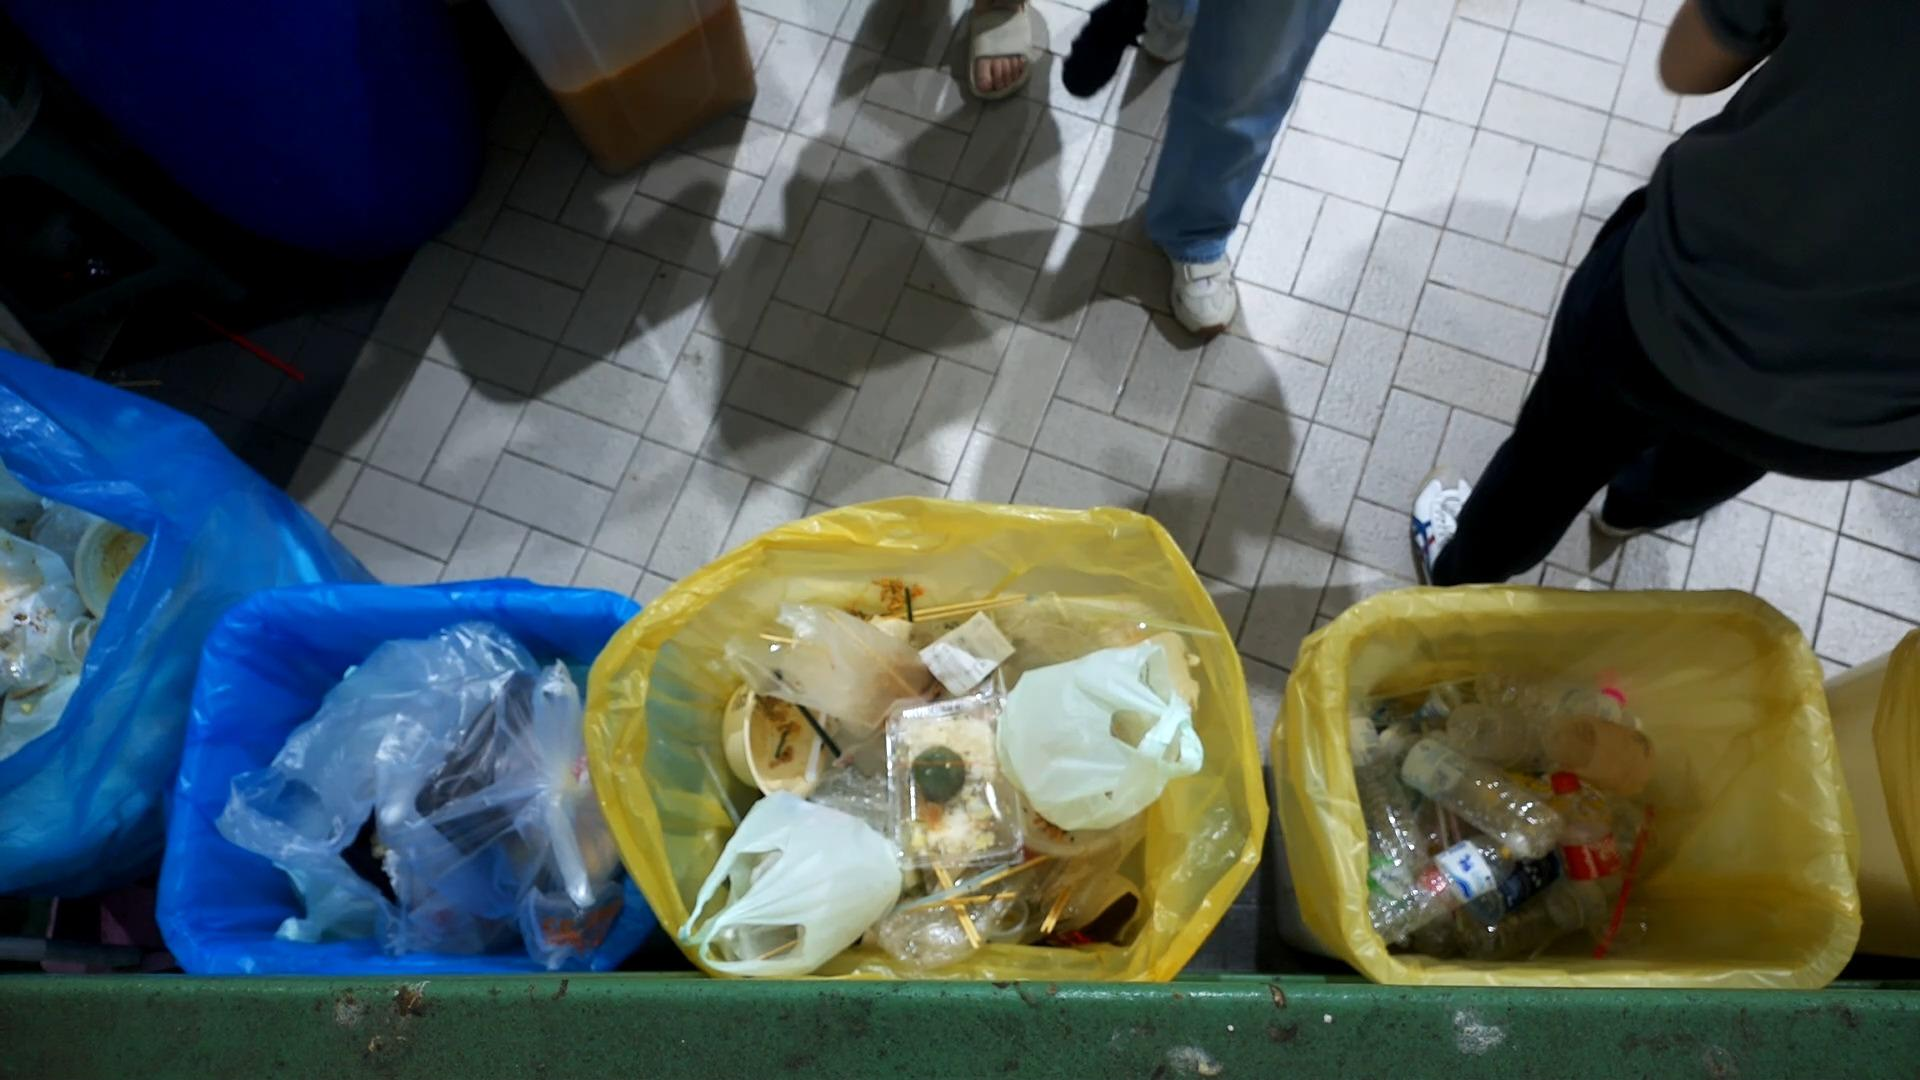dirty food container: (880, 687, 1029, 870)
filled plastic bag: (365, 673, 622, 935), (669, 790, 909, 984), (994, 642, 1205, 835), (721, 591, 951, 731), (882, 872, 1027, 972)
food container: (716, 674, 824, 798)
plastic bag: (212, 622, 522, 870), (501, 825, 632, 988)
plastic bottle: (1379, 725, 1573, 862), (1364, 837, 1536, 961), (1336, 696, 1436, 874), (1549, 765, 1629, 932), (1474, 654, 1646, 729)
sticks: (903, 851, 1051, 922), (899, 588, 1031, 630), (935, 849, 985, 951), (1036, 876, 1076, 943)
straw: (1582, 783, 1687, 955)
